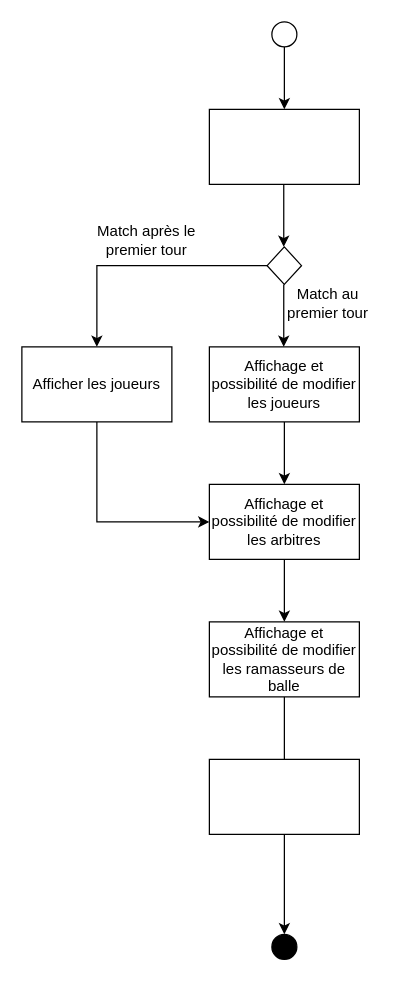
This 406x981 diagram has some shape labels left out. The shapes that lost their labels are listed below. From the top down, each one's box as (x1, y1, x2, y2) in pixels, then its label:
(208, 108, 359, 184): Selectionner un match
(208, 758, 359, 834): Sauvegarder les modifications
